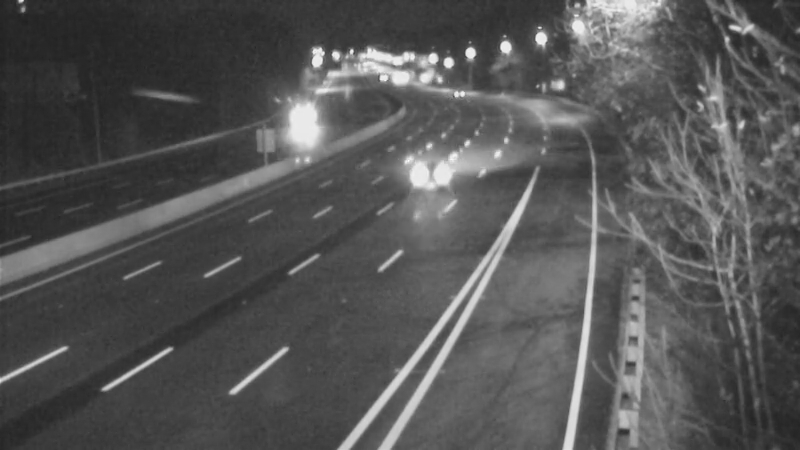vehicle: (395, 135, 475, 215), (432, 66, 482, 116), (269, 98, 319, 148)
